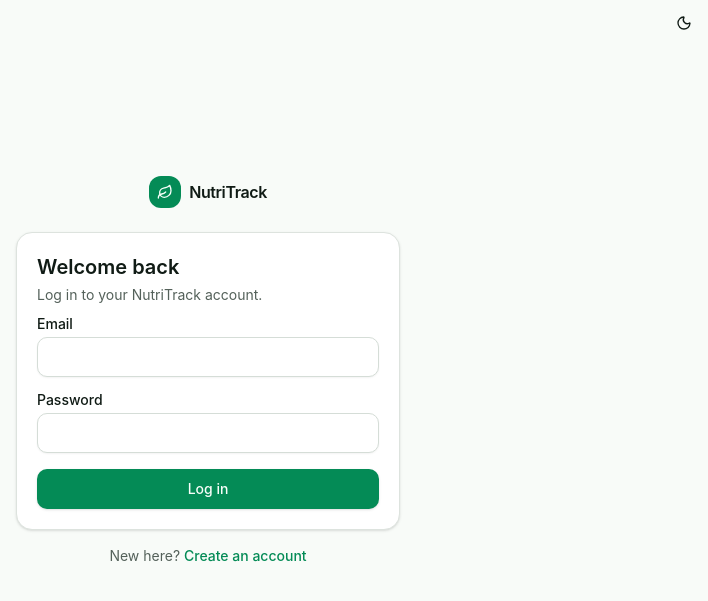
Test: LoginPage › validates before calling the server
Type "not-an-email" into the field labelled "Email".
click(208, 357); type("not-an-email")  # box [37,337,379,377]
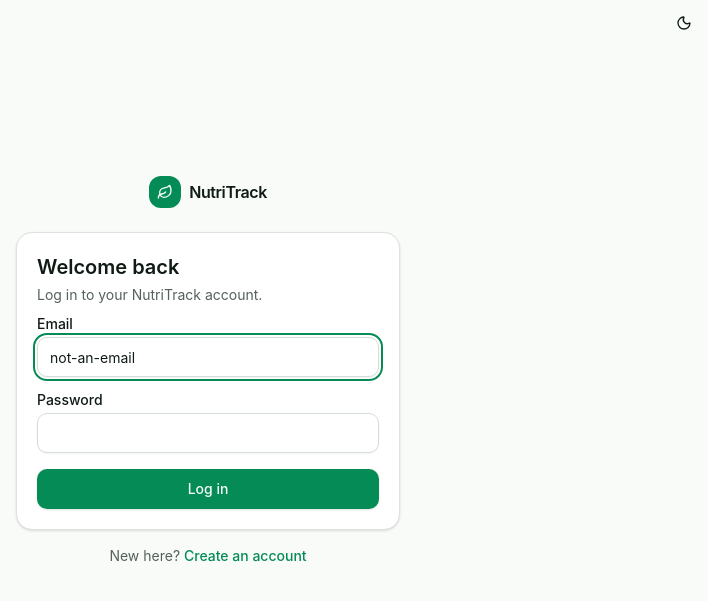
Click the button "Log in".
click(208, 489)  # box [37,469,379,509]
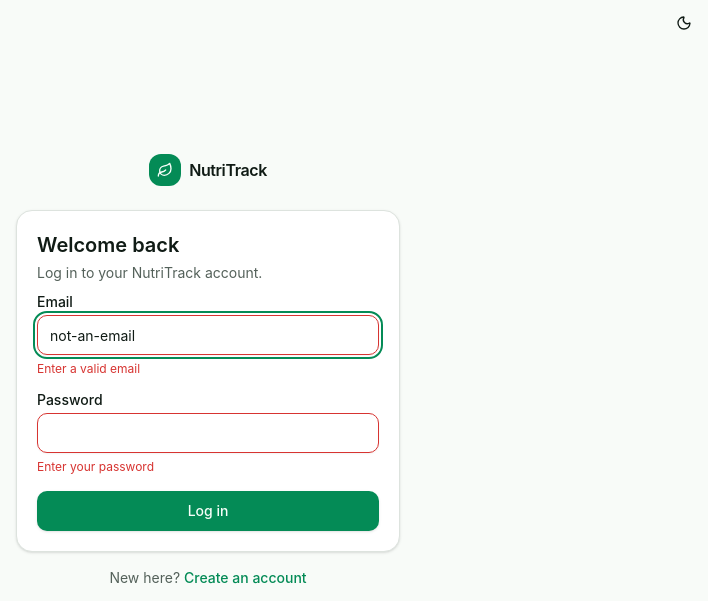
Result: the text "Enter a valid email" is shown at [37,361,140,376]
Result: the text "Enter your password" is shown at [37,459,154,474]
